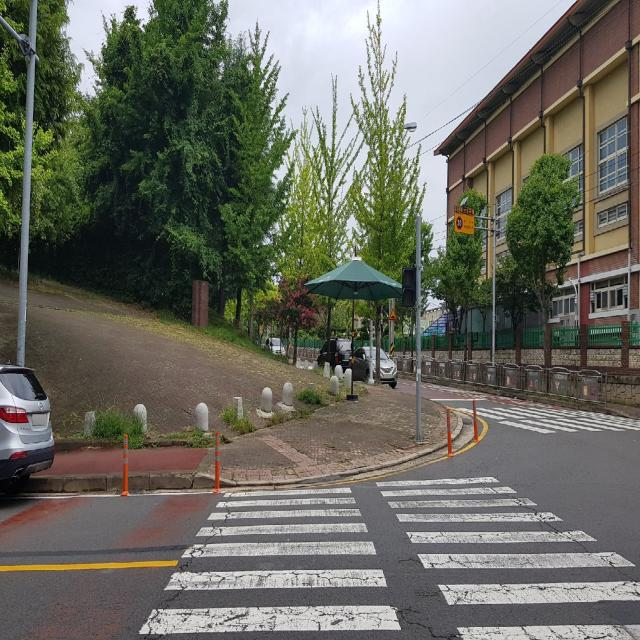횡단보도: (139, 477, 640, 640), (483, 409, 637, 432)
